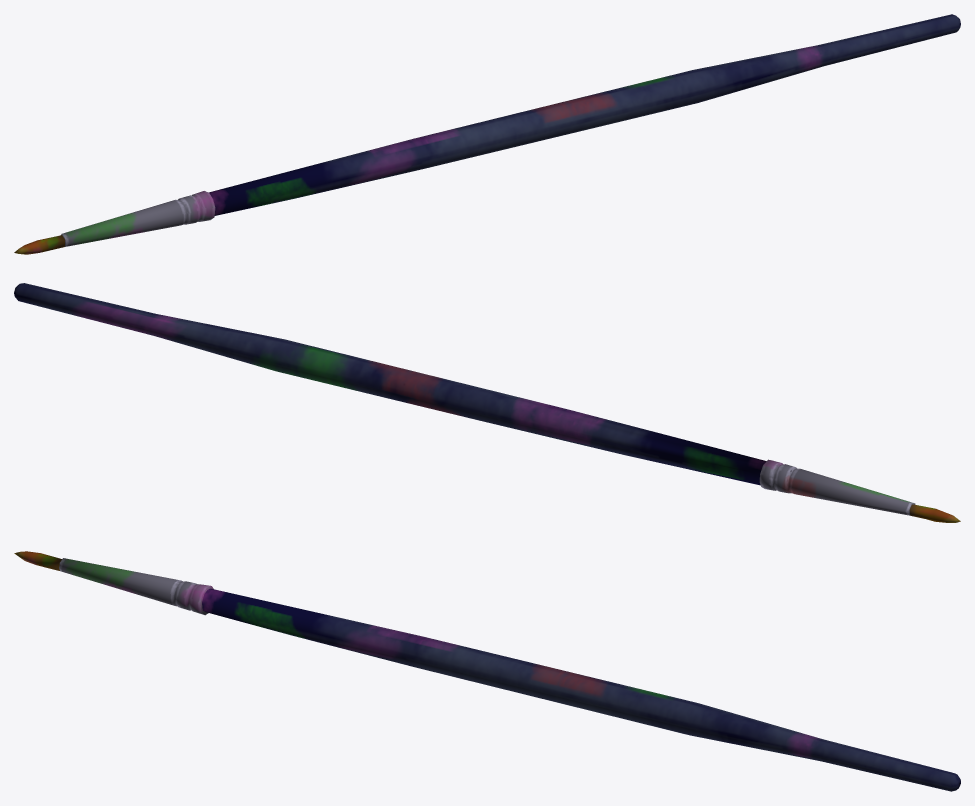
File: Paint_Brush.fbx
The picture shows the model from 3 angles, top to bottom: view 1: azimuth 30°, elevation 25°; view 2: azimuth 150°, elevation 25°; view 3: azimuth 330°, elevation 25°; orthographic projection.
Parts seen in each view (by area): view 1: PaintBrush; view 2: PaintBrush; view 3: PaintBrush.
Part boxes in pixels (x1,y1,x2,y2): PaintBrush: (14, 14, 960, 254); PaintBrush: (14, 283, 960, 522); PaintBrush: (14, 551, 960, 791).
Bounding box in the file's own units: 29.25 × 0.9028 × 0.907.
1 material, 1 textured.
